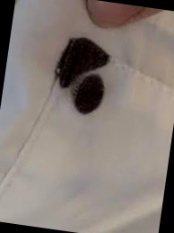ink: (58, 33, 112, 90), (75, 74, 106, 114)
